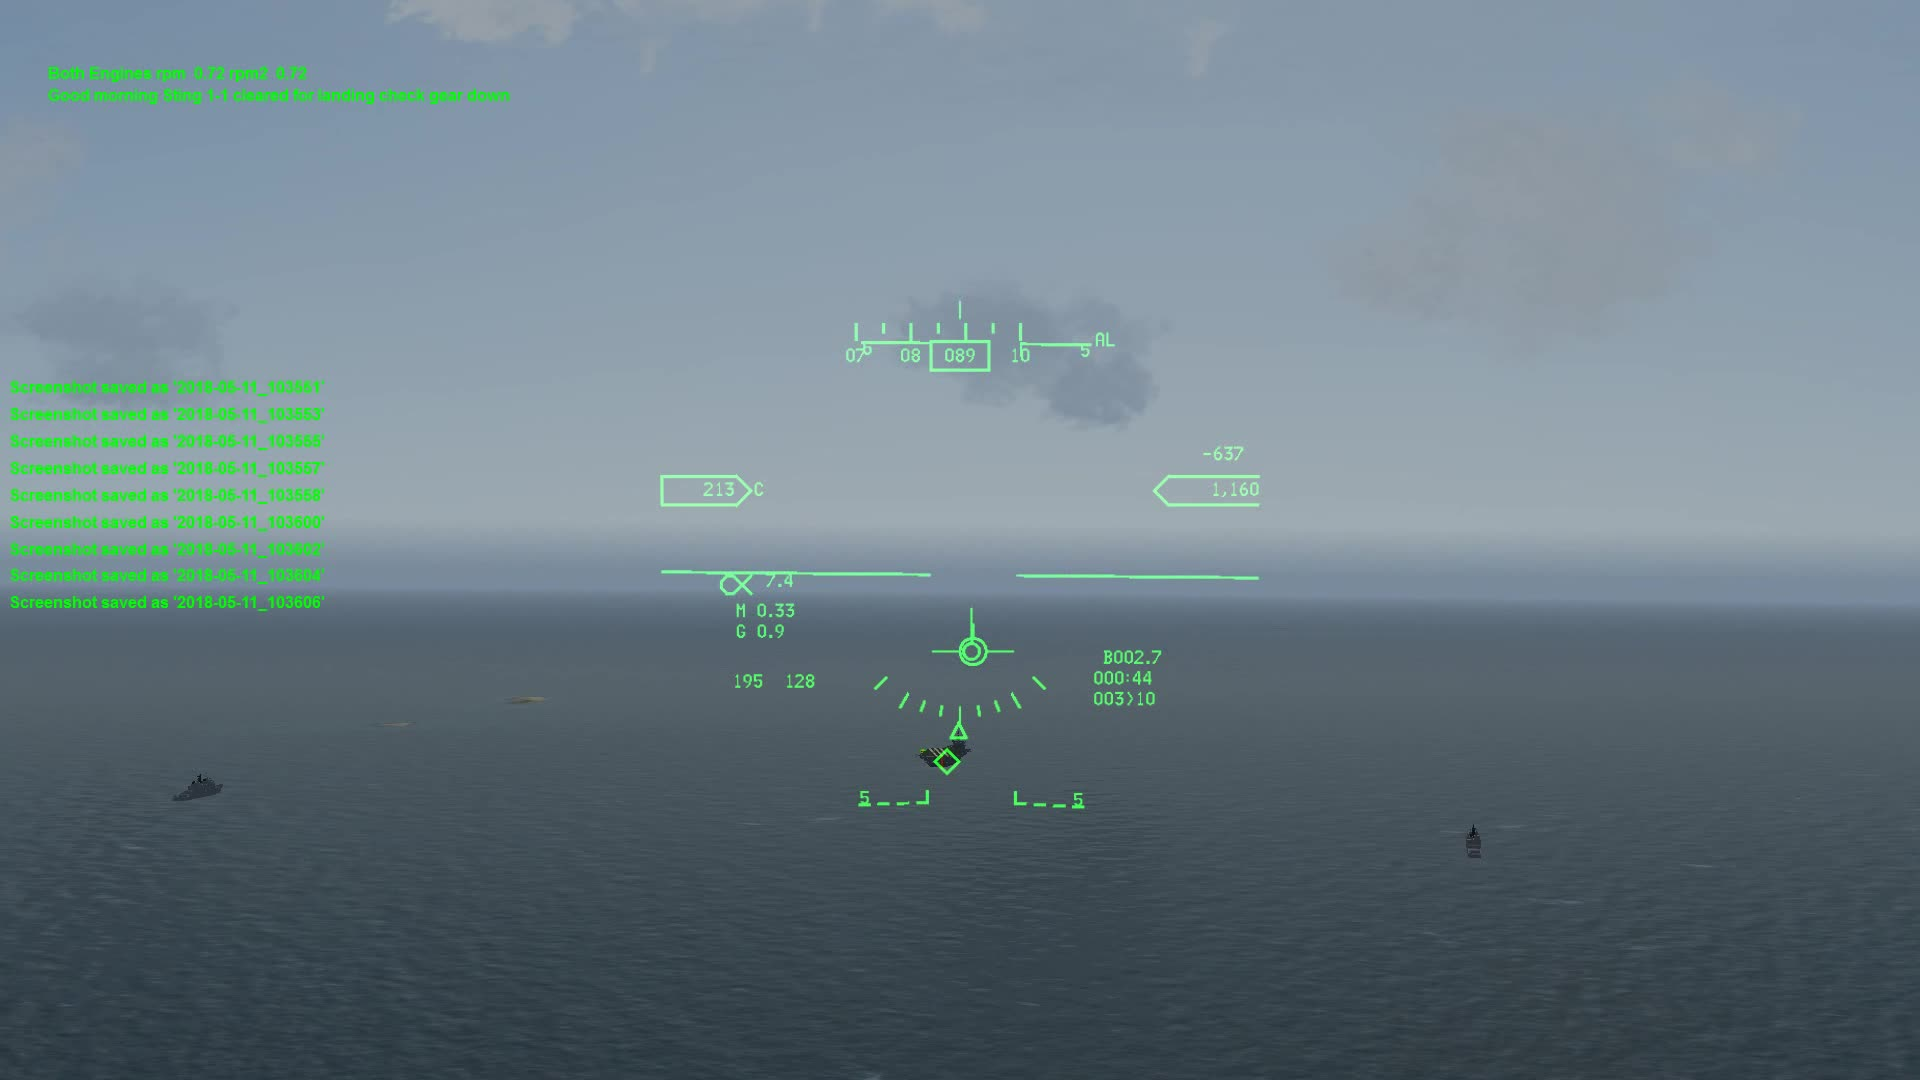speed vector: (918, 621, 1023, 669)
